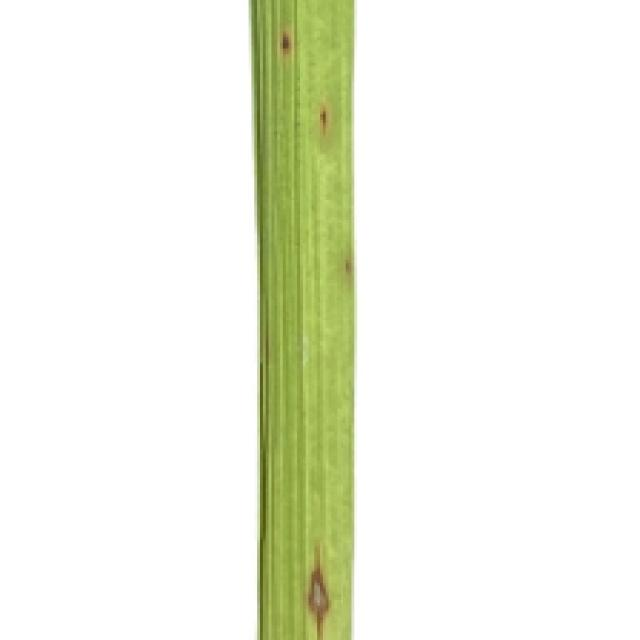Rice___Rice_Blast: (250, 1, 354, 637)
